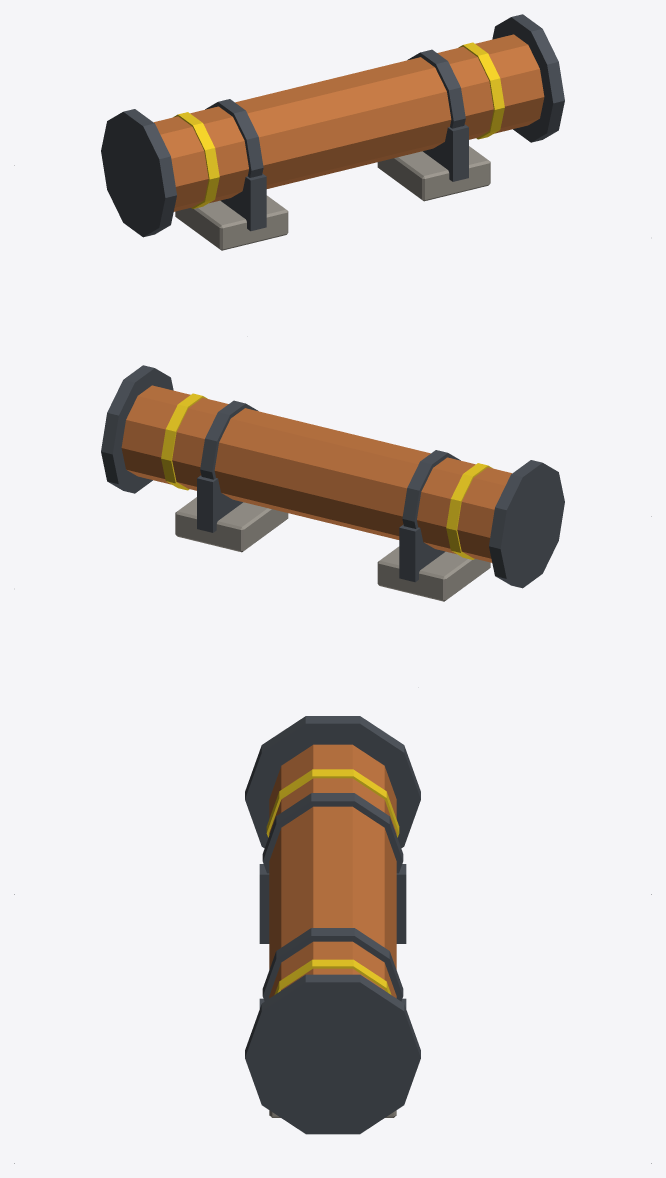
File: tuyau_droit_t1.glb
3 renders of one model, top to bottom at view 1: azimuth 30°, elevation 25°; view 2: azimuth 150°, elevation 25°; view 3: azimuth 270°, elevation 25°, orthographic. The views are drawn at different scales.
Parts seen in each view (by area): view 1: pieces_cuivre.020, pieces_acier_sombre.050, pieces_beton.030, pieces_rive_t1.016; view 2: pieces_cuivre.020, pieces_acier_sombre.050, pieces_beton.030, pieces_rive_t1.016; view 3: pieces_acier_sombre.050, pieces_cuivre.020, pieces_rive_t1.016.
Part boxes in pixels (x1,y1,x2,y2): pieces_cuivre.020: [154, 34, 544, 211]; pieces_acier_sombre.050: [101, 14, 564, 237]; pieces_beton.030: [175, 146, 490, 250]; pieces_rive_t1.016: [173, 42, 504, 208]; pieces_cuivre.020: [121, 385, 511, 562]; pieces_acier_sombre.050: [101, 365, 564, 588]; pieces_beton.030: [175, 497, 490, 601]; pieces_rive_t1.016: [161, 393, 492, 559]; pieces_acier_sombre.050: [245, 716, 420, 1134]; pieces_cuivre.020: [269, 744, 396, 998]; pieces_rive_t1.016: [266, 769, 399, 994].
Bounding box in the file's own units: 1 × 0.3112 × 1.
